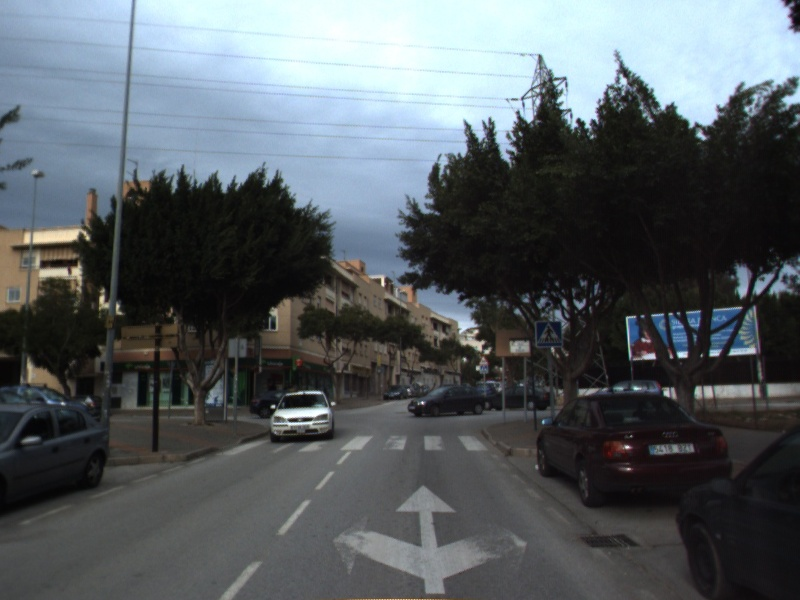STRAIGHT_LEFT_RIGHT: (328, 480, 531, 596)
